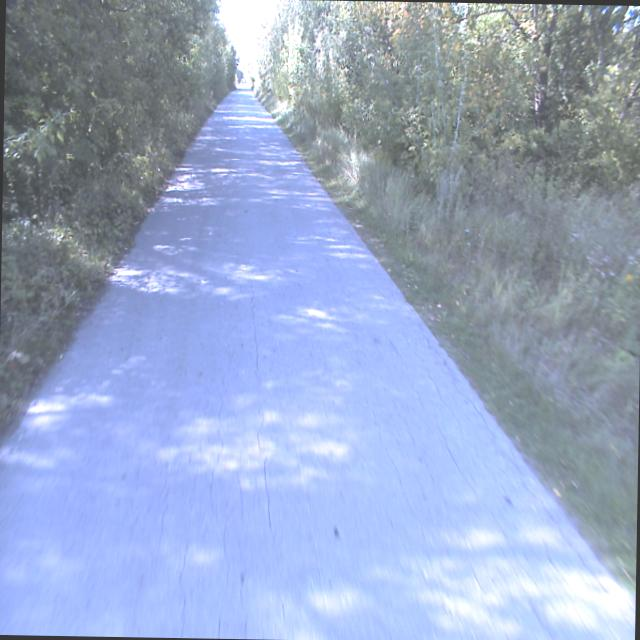road: (0, 84, 634, 640)
